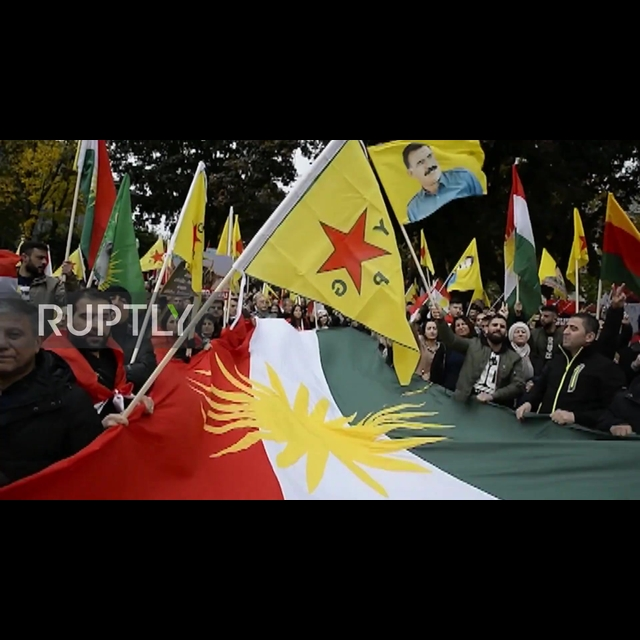YPG: (305, 205, 395, 303)
